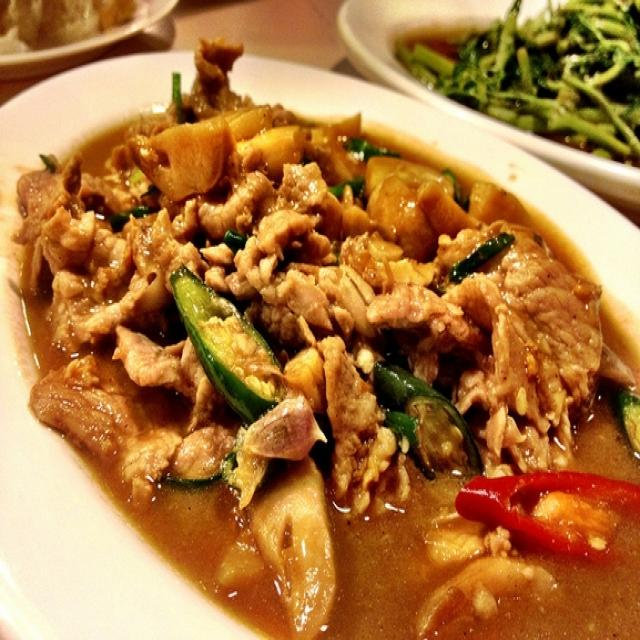牛肉菜式: (15, 47, 636, 634)
